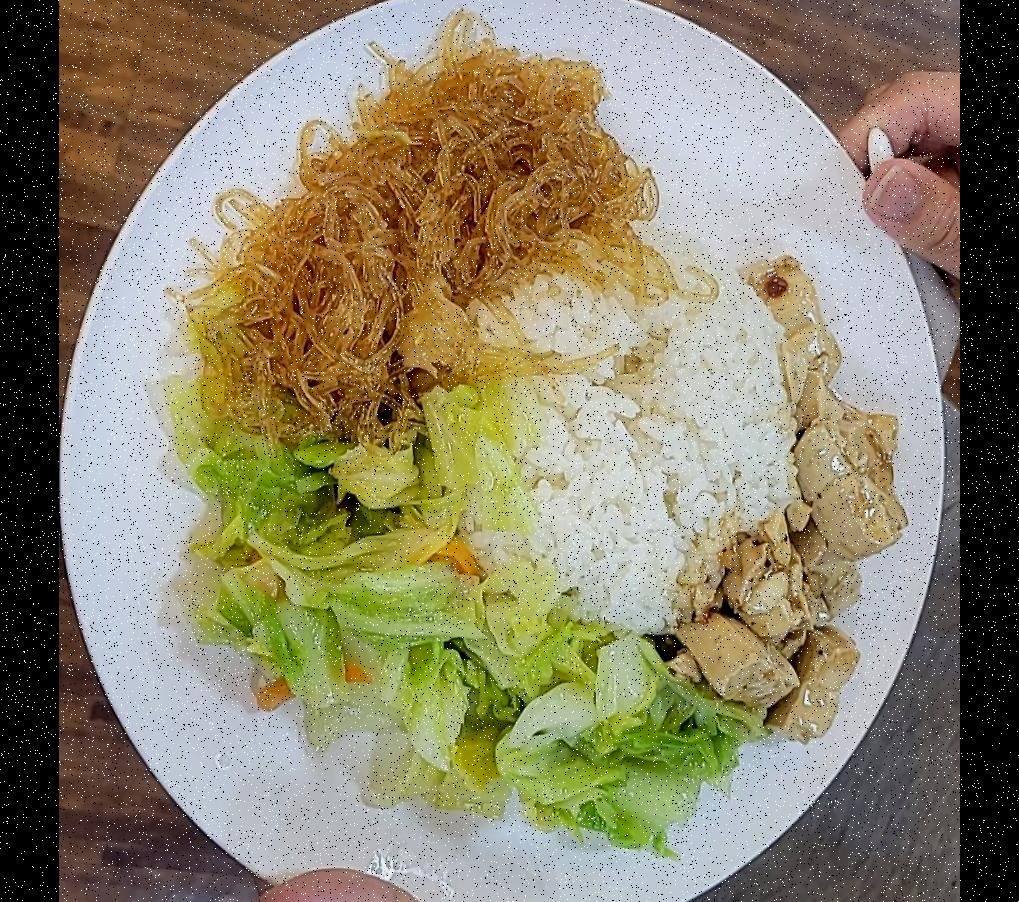plate: (70, 0, 936, 902)
side dish: (168, 420, 762, 855), (182, 13, 634, 453), (692, 268, 914, 753)
white rice: (404, 226, 806, 652)
